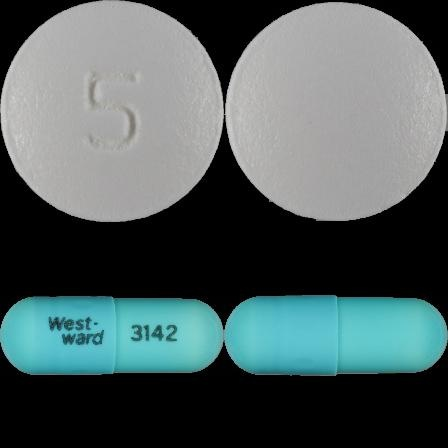67046-134: (0, 0, 224, 224)
